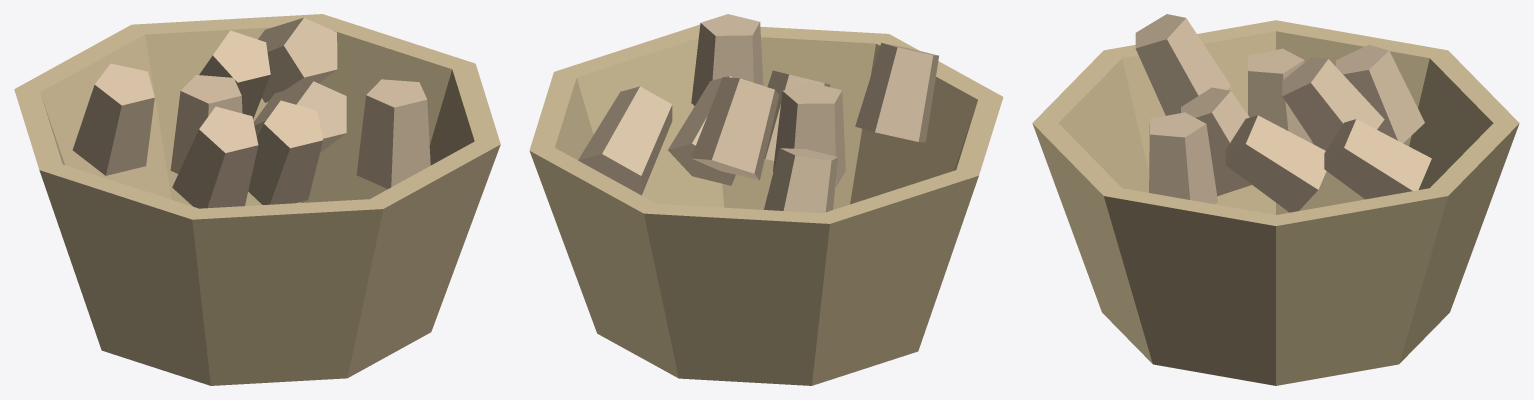
File: prop-cork-basket.fbx
The picture shows the model from 3 angles, left to right: view 1: azimuth 30°, elevation 25°; view 2: azimuth 150°, elevation 25°; view 3: azimuth 270°, elevation 25°; orthographic projection. The views are drawn at different scales.
Parts seen in each view (by area): view 1: prop-cork-basket; view 2: prop-cork-basket; view 3: prop-cork-basket.
Part boxes in pixels (x1=…): prop-cork-basket: x1=14, y1=14, x2=500, y2=385; prop-cork-basket: x1=529, y1=14, x2=1003, y2=385; prop-cork-basket: x1=1032, y1=14, x2=1519, y2=385.
Size of the model in its own units: 28 by 16.08 by 28.
